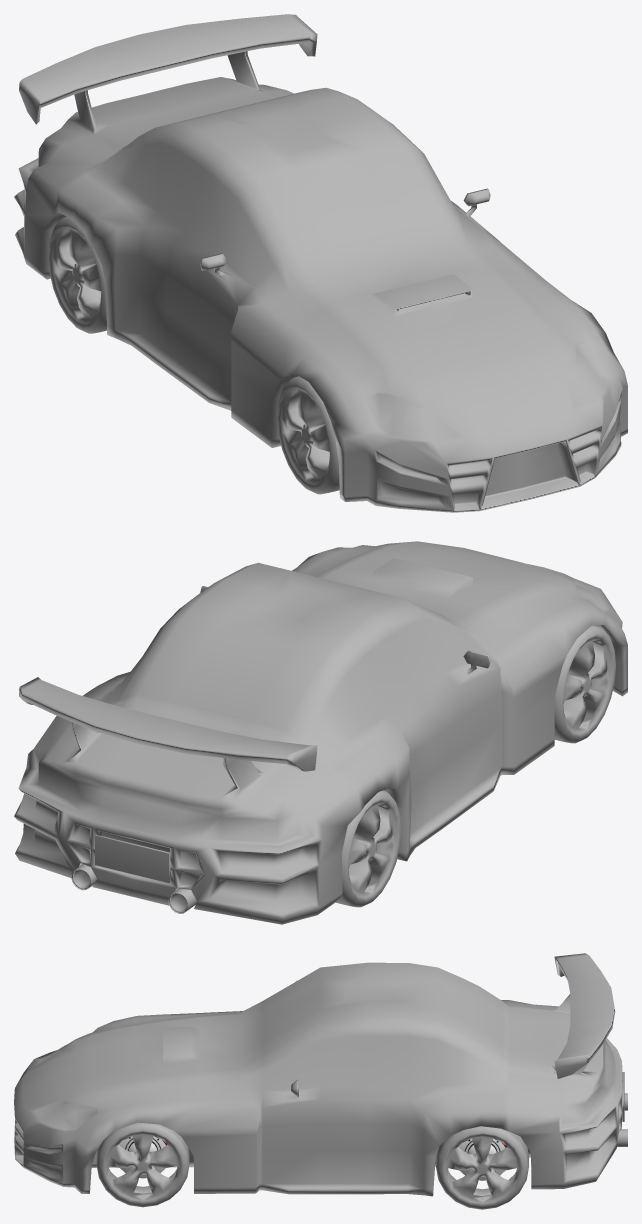
The model's file is Aquatic Tarantula.fbx.
3 views of the same model, one above another, from view 1: azimuth 30°, elevation 25°; view 2: azimuth 150°, elevation 25°; view 3: azimuth 270°, elevation 25° (orthographic). The views are drawn at different scales.
Visible parts, largest first — view 1: B_Aquatic_Tarantula, Tire2, Tire3; view 2: B_Aquatic_Tarantula, Tire2, Tire3, License_Plate, Dual_Intake; view 3: B_Aquatic_Tarantula, Tire, Tire1, Disk_brake1, Disk_brake.
Boxes of the visible parts, x1,y1,x2,y2 form: B_Aquatic_Tarantula: [14, 14, 627, 512]; Tire2: [277, 376, 339, 494]; Tire3: [48, 216, 106, 333]; B_Aquatic_Tarantula: [14, 541, 627, 924]; Tire2: [554, 625, 615, 743]; Tire3: [336, 790, 401, 907]; License_Plate: [95, 835, 170, 882]; Dual_Intake: [71, 864, 196, 913]; B_Aquatic_Tarantula: [14, 953, 622, 1196]; Tire: [96, 1122, 189, 1207]; Tire1: [436, 1126, 528, 1209]; Disk_brake1: [458, 1138, 506, 1180]; Disk_brake: [119, 1136, 167, 1178].
Bounding box in the file's own units: 8.51 × 5.77 × 19.32.
